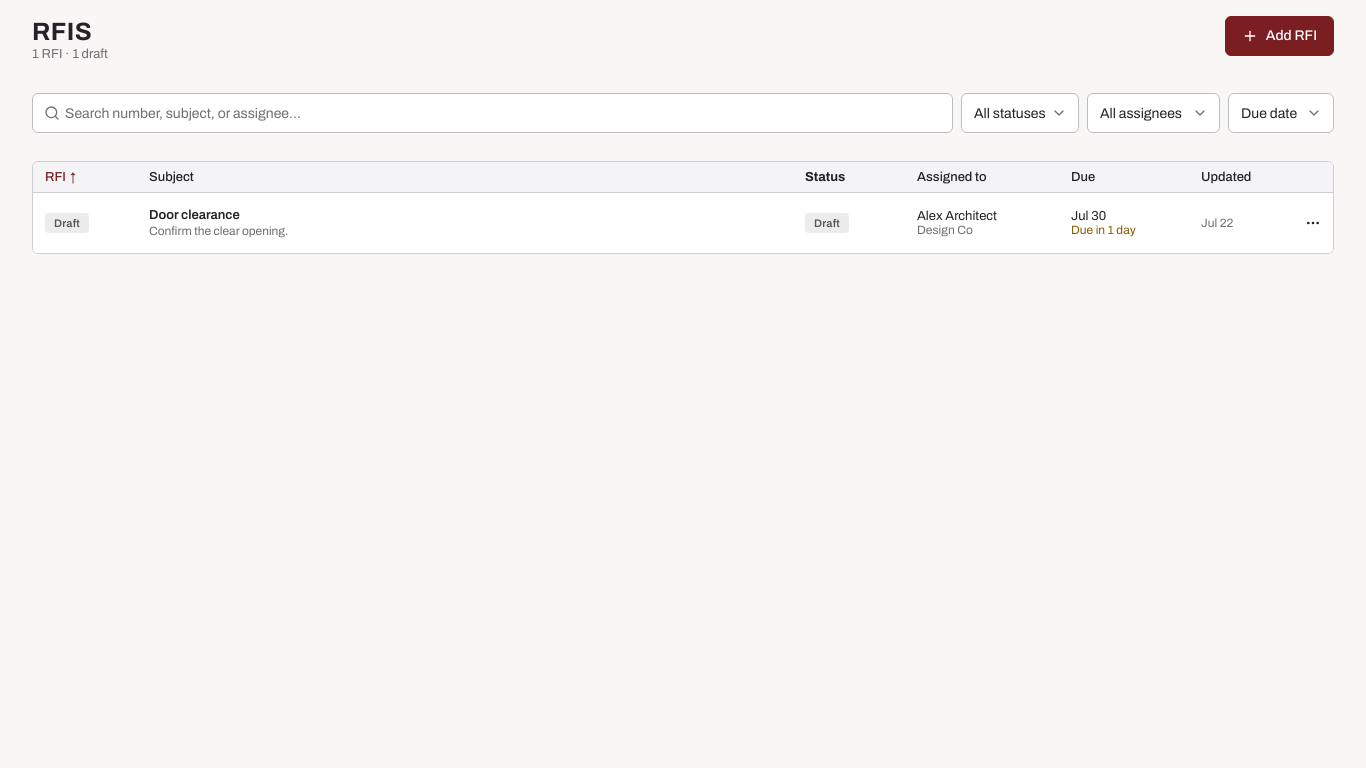
Test: native RFI register — identity and subject navigation › clicking a draft row's primary area opens the Drawer
Check: the table is shown, box [33,162,1333,253]
Click the cell with class "rfi-register-cell-responsible".
click(982, 223)  # box [905,193,1059,253]
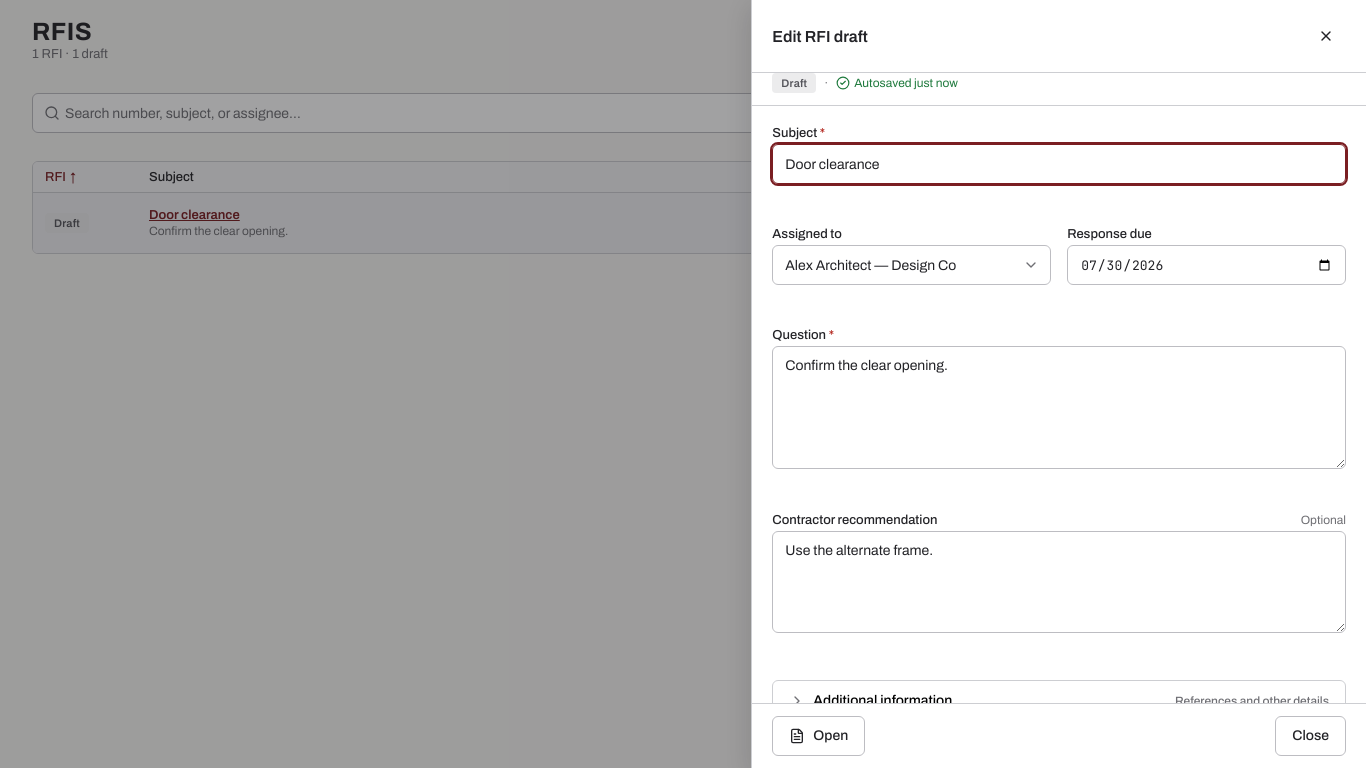
Check: the dialog "Edit RFI draft" is shown, box [751,0,1365,767]
